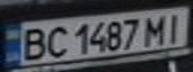1: (69, 20, 90, 55)
4: (87, 19, 109, 53)
7: (121, 16, 145, 50)
8: (103, 17, 127, 52)
B: (15, 26, 51, 62)
C: (42, 24, 72, 58)
I: (160, 9, 190, 43)
M: (139, 11, 172, 46)
